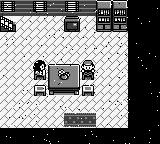leer: (64, 16, 80, 32)
main: (80, 60, 96, 77)
no-caminable: (1, 0, 160, 143), (1, 0, 96, 16), (96, 0, 127, 32), (48, 64, 80, 95)
npc: (33, 60, 47, 77)
puerta: (62, 111, 99, 128), (1, 16, 16, 32)
